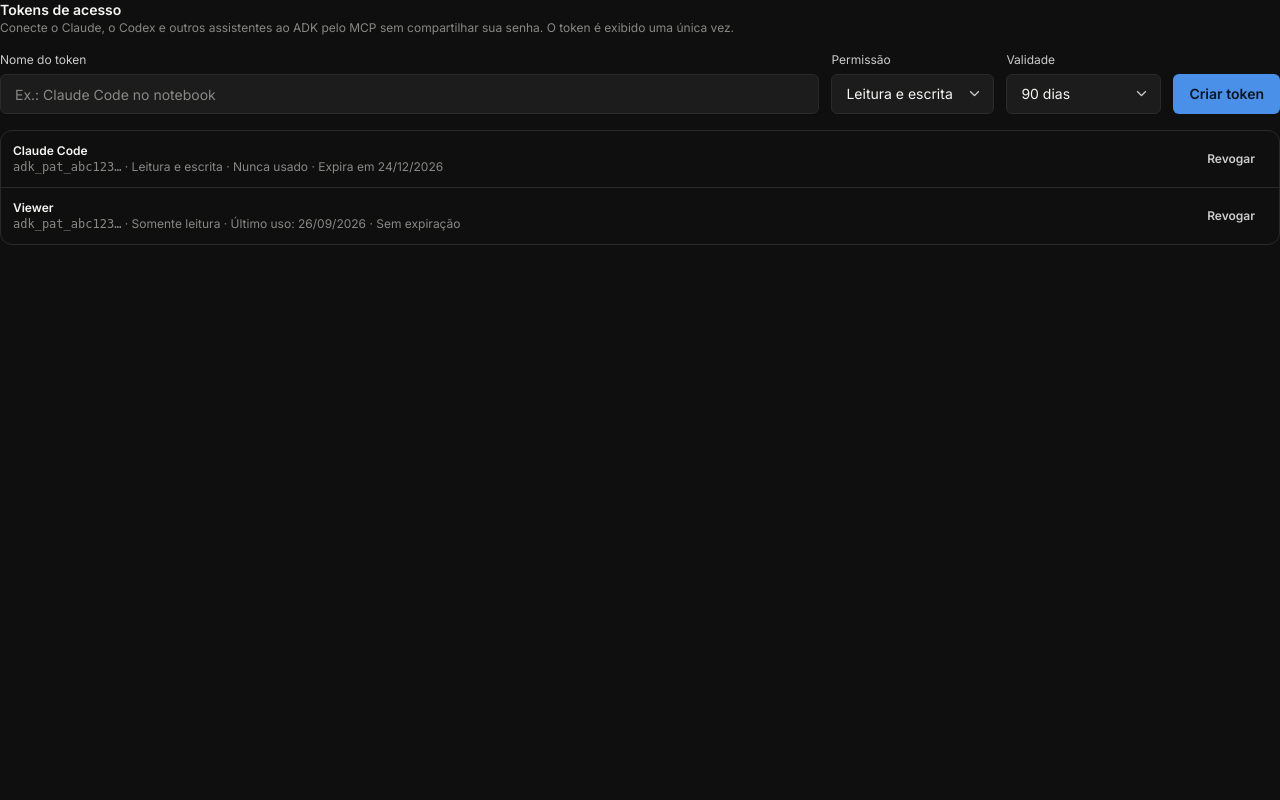
Test: AccessTokensPanel › lists and revokes tokens after confirmation
Expected: the text "Viewer" is shown, [13, 200, 54, 215]
Expected: the list with test id "token-list" shows "Somente leitura · Último uso", [0, 130, 1279, 245]
Click the button with test id "revoke-token-t1" at [1231, 159], box [1195, 143, 1267, 175]
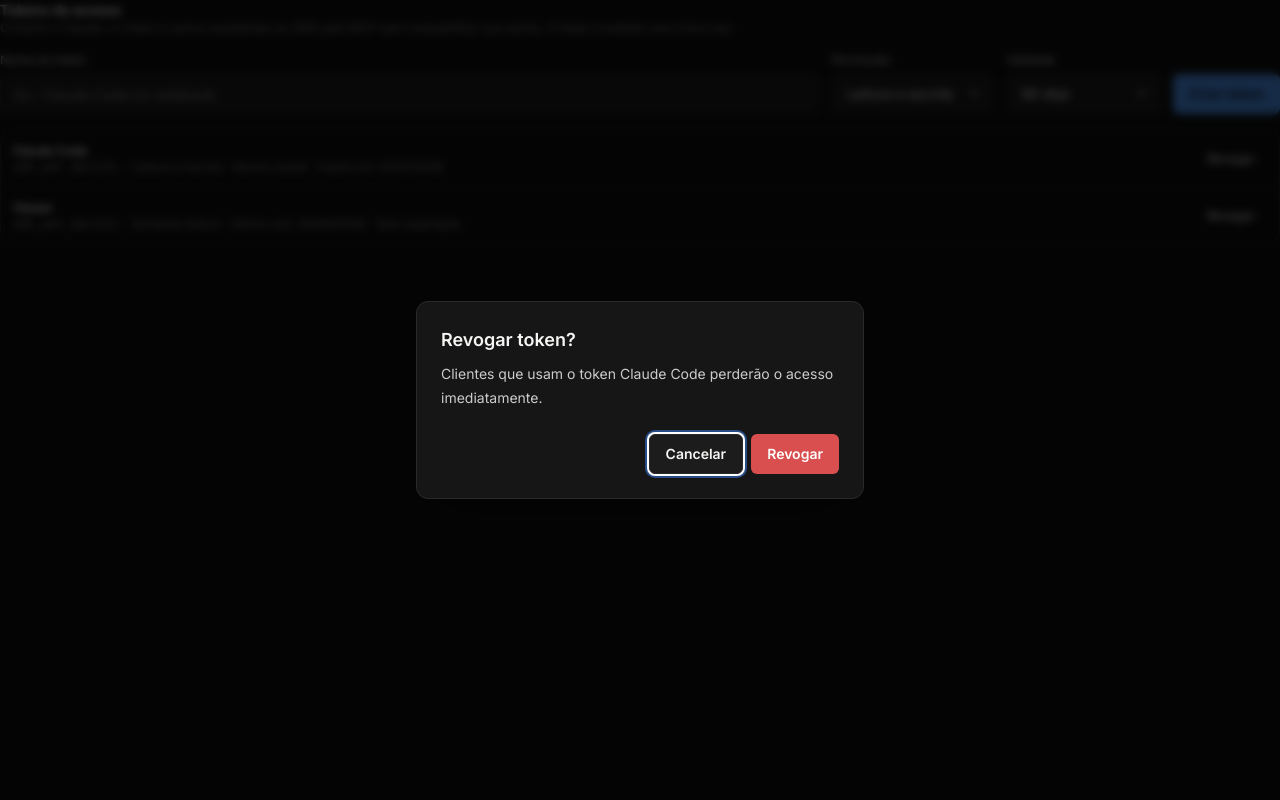
Expected: the heading "Revogar token?" is shown, [441, 329, 576, 350]
Click the button "Cancelar" at [696, 454], box [649, 434, 743, 474]
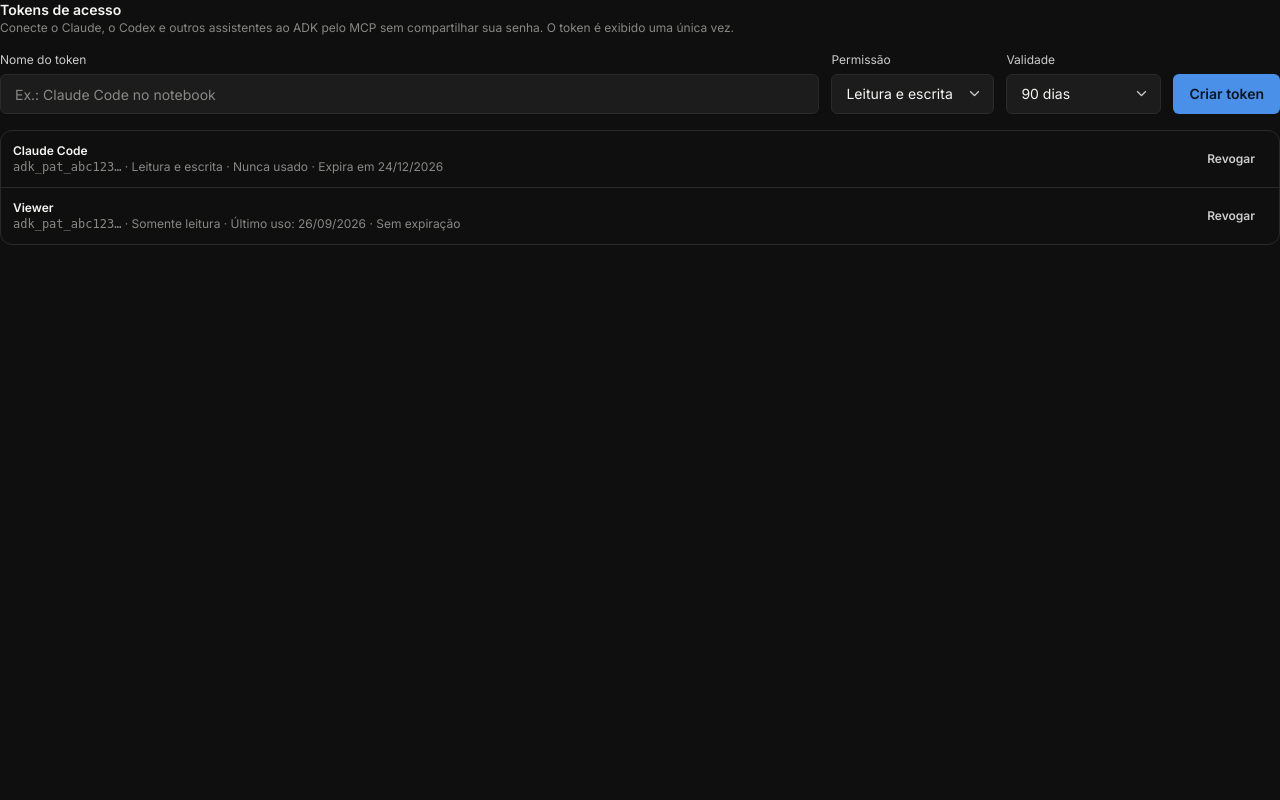
Click the button with test id "revoke-token-t1" at [1231, 159], box [1195, 143, 1267, 175]
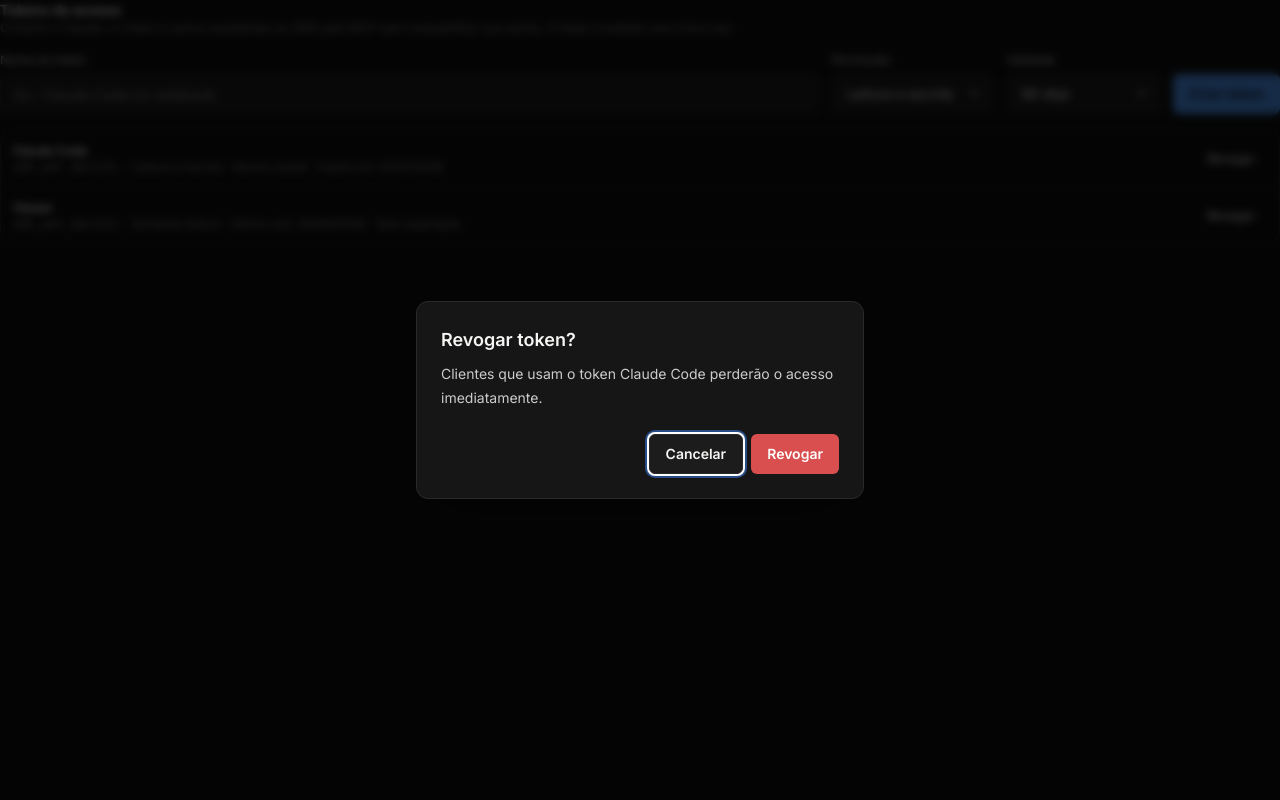
Click the button "Revogar" at [795, 454], box [751, 434, 839, 474]
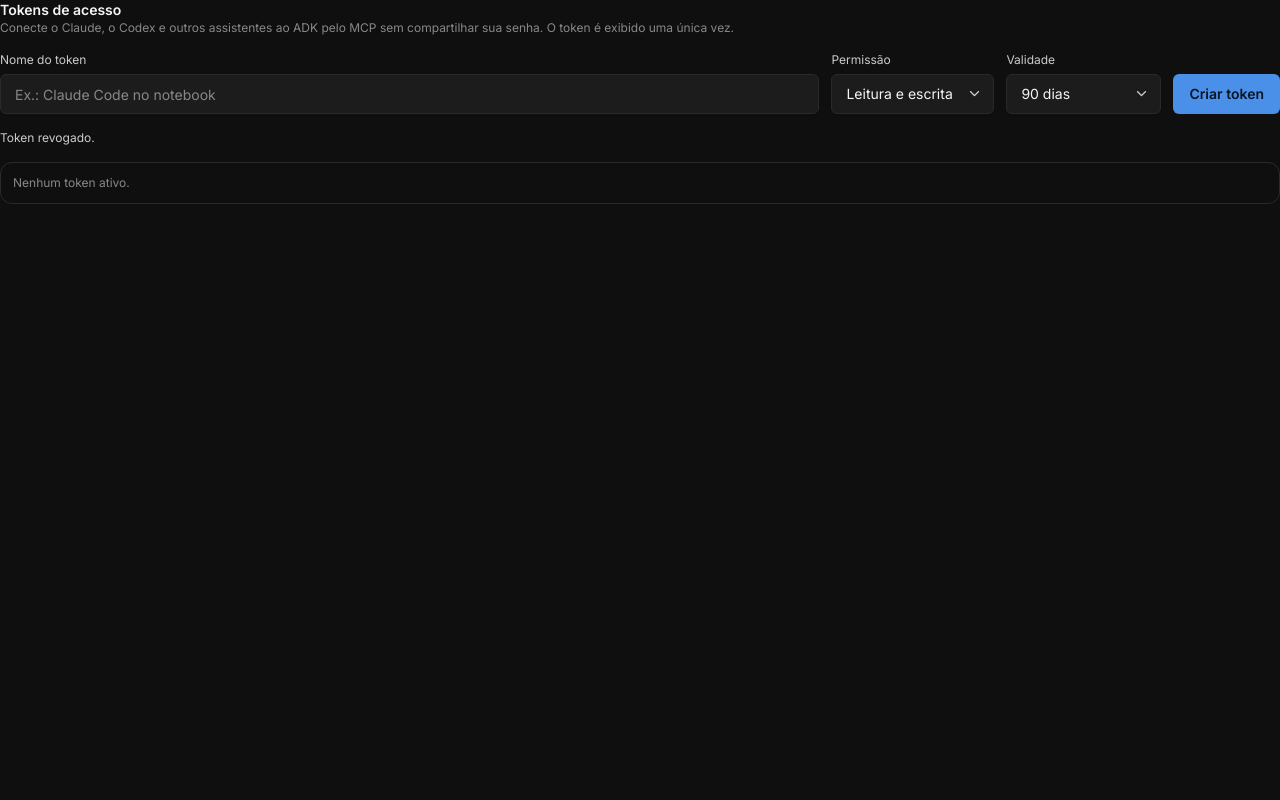
Expected: the text "Token revogado." is shown, [0, 130, 95, 145]
